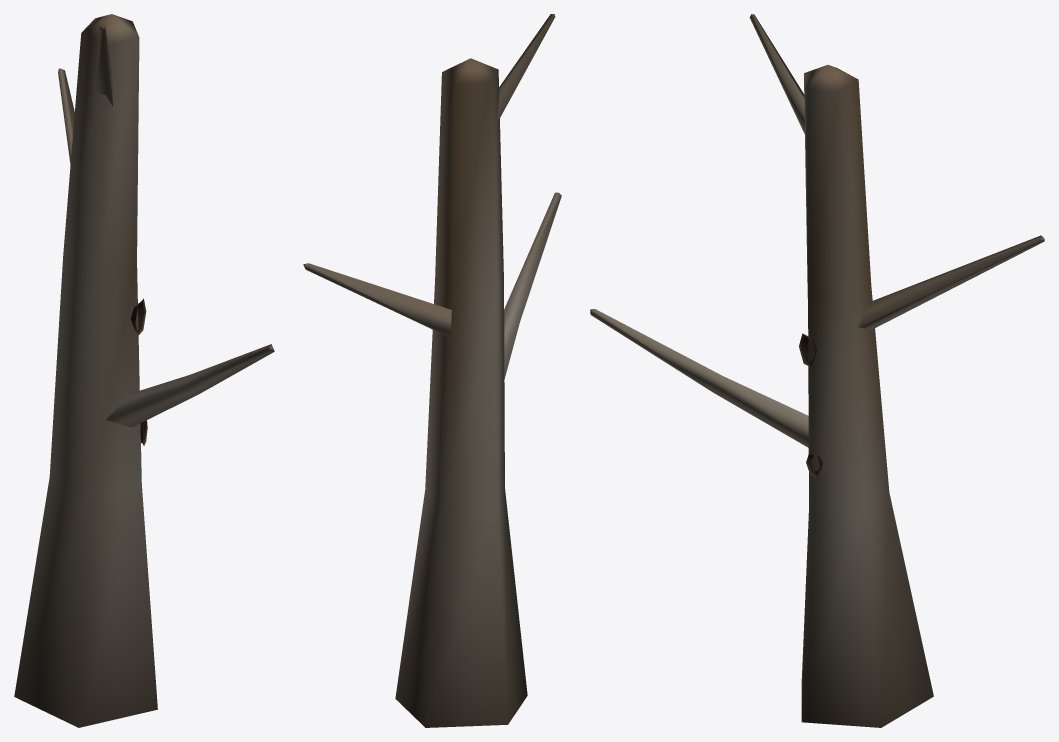
Rendered from snag-b.lod2.glb.
3 views of the same model, side by side, from view 1: azimuth 30°, elevation 25°; view 2: azimuth 150°, elevation 25°; view 3: azimuth 270°, elevation 25° (orthographic). The views are drawn at different scales.
Bounding box in the file's own units: 0.8941 × 4.52 × 2.77.
